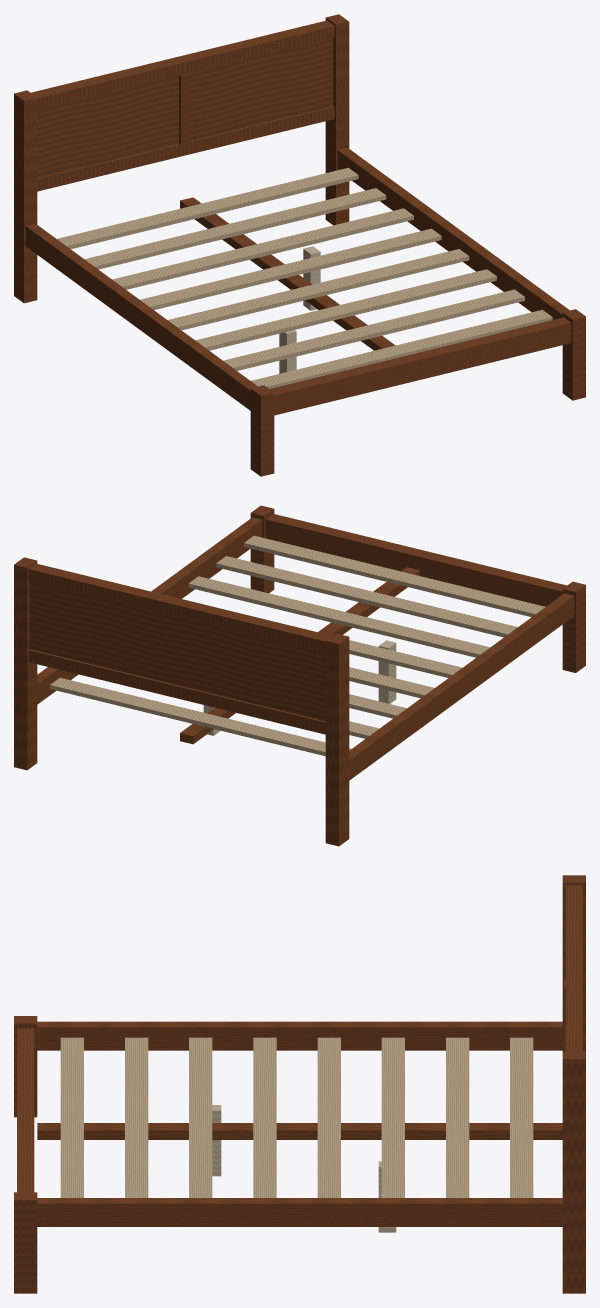
The picture shows the model from 3 angles, top to bottom: view 1: azimuth 30°, elevation 25°; view 2: azimuth 150°, elevation 25°; view 3: azimuth 270°, elevation 25°; orthographic projection. The views are drawn at different scales.
Parts seen in each view (by area): view 1: 5 headboard_panel, 9 front_rail, 10 left_side_rail, 3 headboard_top_rail, 11 right_side_rail, 1 headboard_left_post, 15 slat_1, 16 slat_2, 19 slat_5, 17 slat_3, 18 slat_4, 21 slat_7 (+8 smaller); view 2: 5 headboard_panel, 9 front_rail, 10 left_side_rail, 3 headboard_top_rail, 1 headboard_left_post, 20 slat_6, 21 slat_7, 22 slat_8, 2 headboard_right_post, 4 headboard_bottom_rail, 15 slat_1, 11 right_side_rail (+7 smaller); view 3: 11 right_side_rail, 10 left_side_rail, 2 headboard_right_post, 12 center_support_rail, 19 slat_5, 15 slat_1, 16 slat_2, 17 slat_3, 18 slat_4, 20 slat_6, 21 slat_7, 22 slat_8 (+6 smaller).
Boxes of the visible parts, bbox=[...] form: 5 headboard_panel: bbox=[37, 38, 333, 177]; 9 front_rail: bbox=[270, 317, 571, 415]; 10 left_side_rail: bbox=[25, 223, 257, 410]; 3 headboard_top_rail: bbox=[31, 20, 334, 110]; 11 right_side_rail: bbox=[337, 147, 569, 319]; 1 headboard_left_post: bbox=[14, 90, 37, 303]; 15 slat_1: bbox=[57, 167, 358, 249]; 16 slat_2: bbox=[84, 188, 386, 269]; 19 slat_5: bbox=[168, 249, 469, 330]; 17 slat_3: bbox=[112, 208, 413, 289]; 18 slat_4: bbox=[140, 228, 441, 309]; 21 slat_7: bbox=[223, 289, 524, 370]; 5 headboard_panel: bbox=[29, 581, 325, 721]; 9 front_rail: bbox=[265, 513, 566, 606]; 10 left_side_rail: bbox=[349, 593, 574, 780]; 3 headboard_top_rail: bbox=[28, 563, 332, 653]; 1 headboard_left_post: bbox=[325, 633, 349, 846]; 20 slat_6: bbox=[188, 576, 489, 657]; 21 slat_7: bbox=[216, 556, 517, 637]; 22 slat_8: bbox=[244, 535, 545, 616]; 2 headboard_right_post: bbox=[14, 557, 37, 770]; 4 headboard_bottom_rail: bbox=[28, 649, 325, 734]; 15 slat_1: bbox=[50, 677, 351, 756]; 11 right_side_rail: bbox=[37, 517, 262, 704]; 11 right_side_rail: bbox=[37, 1198, 562, 1226]; 10 left_side_rail: bbox=[37, 1021, 562, 1050]; 2 headboard_right_post: bbox=[562, 1051, 585, 1293]; 12 center_support_rail: bbox=[37, 1123, 562, 1139]; 19 slat_5: bbox=[253, 1037, 276, 1197]; 15 slat_1: bbox=[510, 1037, 533, 1197]; 16 slat_2: bbox=[446, 1037, 469, 1197]; 17 slat_3: bbox=[381, 1037, 404, 1197]; 18 slat_4: bbox=[317, 1037, 340, 1197]; 20 slat_6: bbox=[189, 1037, 212, 1197]; 21 slat_7: bbox=[125, 1037, 148, 1197]; 22 slat_8: bbox=[60, 1037, 83, 1197].
Bounding box in the file's own units: 1.68 × 1 × 2.21.
3 materials, 3 textured.
